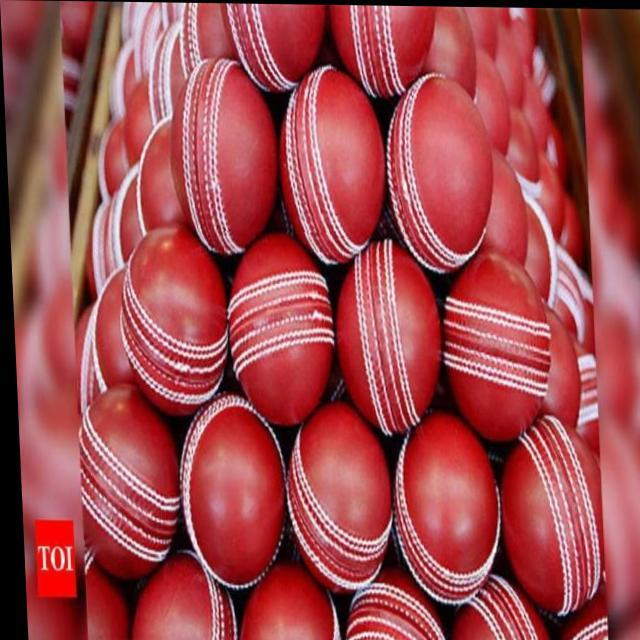cricket ball: (332, 238, 439, 431), (225, 231, 330, 426), (282, 401, 388, 590)
